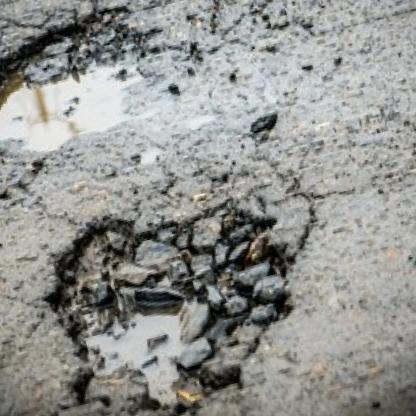pothole: (25, 170, 330, 416), (0, 0, 181, 187)
